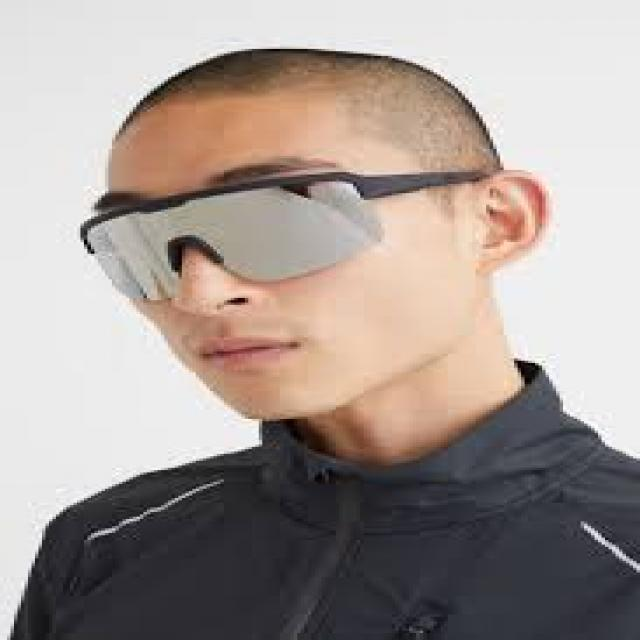suspicious-objects: (51, 162, 393, 301)
